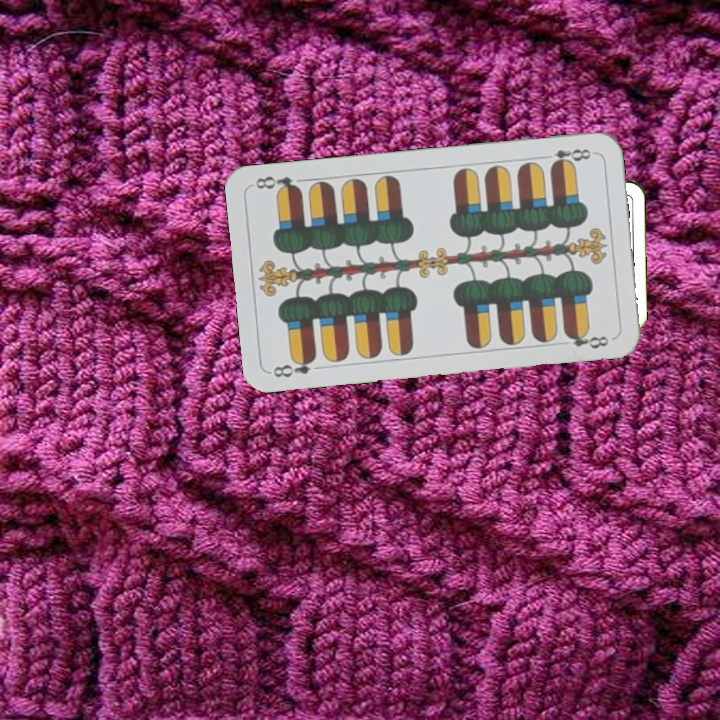E8: (268, 352, 319, 380), (547, 145, 597, 170)
